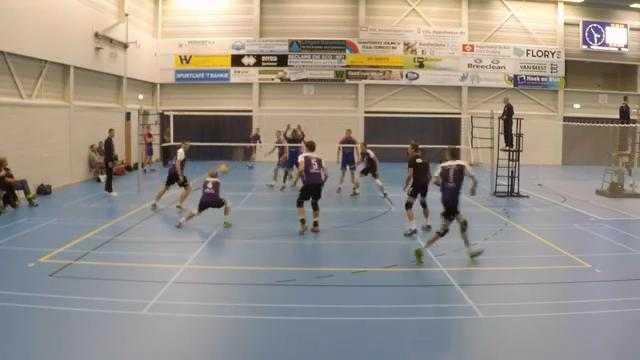Player: (425, 148, 482, 258), (294, 141, 327, 234), (151, 142, 190, 209), (403, 142, 430, 236), (357, 142, 387, 197), (280, 125, 305, 190), (337, 129, 358, 192), (265, 131, 286, 187), (248, 128, 261, 168)
Receive: (172, 167, 237, 230)
